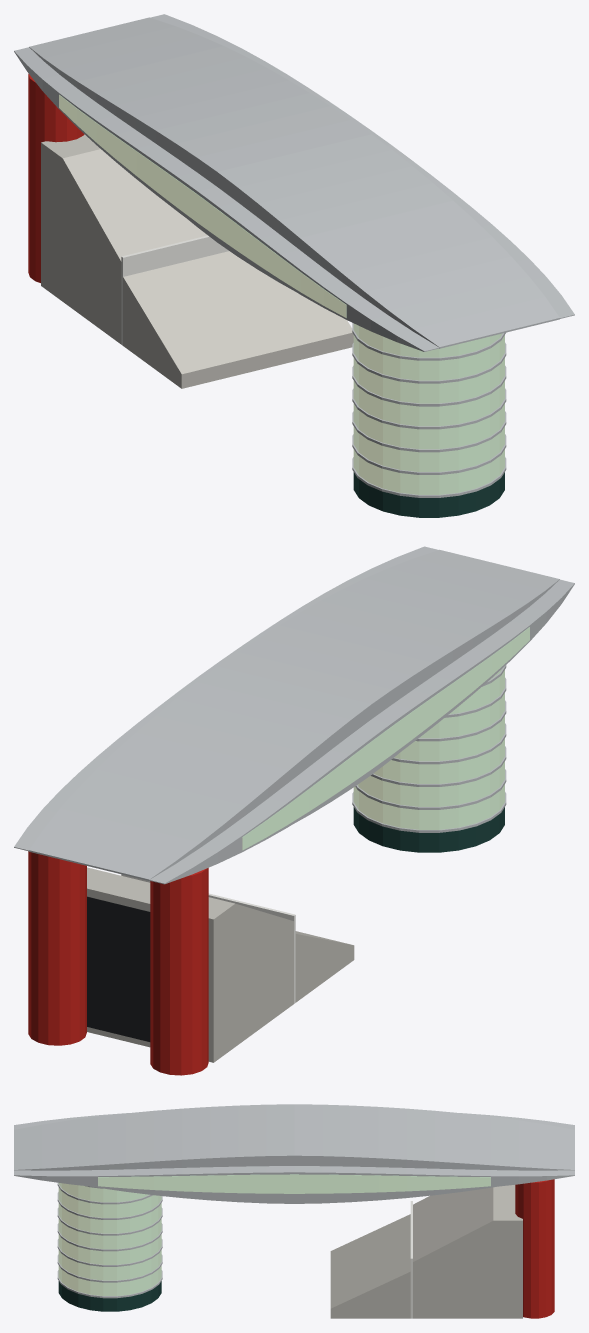
The model's file is sha_wing.glb.
3 renders of one model, top to bottom at view 1: azimuth 30°, elevation 25°; view 2: azimuth 150°, elevation 25°; view 3: azimuth 270°, elevation 25°, orthographic. The views are drawn at different scales.
Visible parts, largest first — view 1: shanghai-wing; view 2: shanghai-wing; view 3: shanghai-wing.
Part boxes in pixels (box(x1,y1,x2,y2)): shanghai-wing: box(14, 14, 574, 517); shanghai-wing: box(14, 546, 574, 1075); shanghai-wing: box(14, 1104, 574, 1318).
Bounding box in the file's own units: 38.14 × 44.05 × 140.
